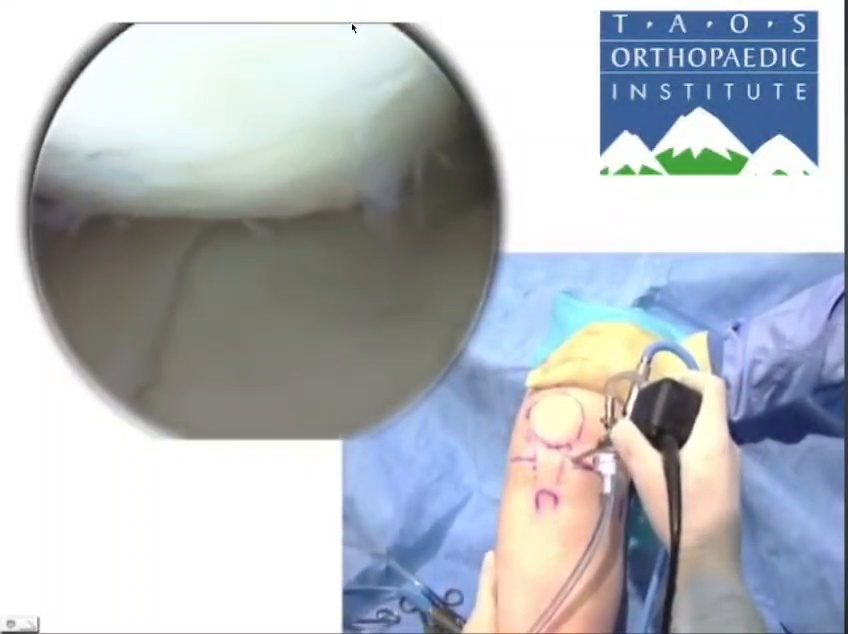arthroscope: (38, 0, 424, 226)
